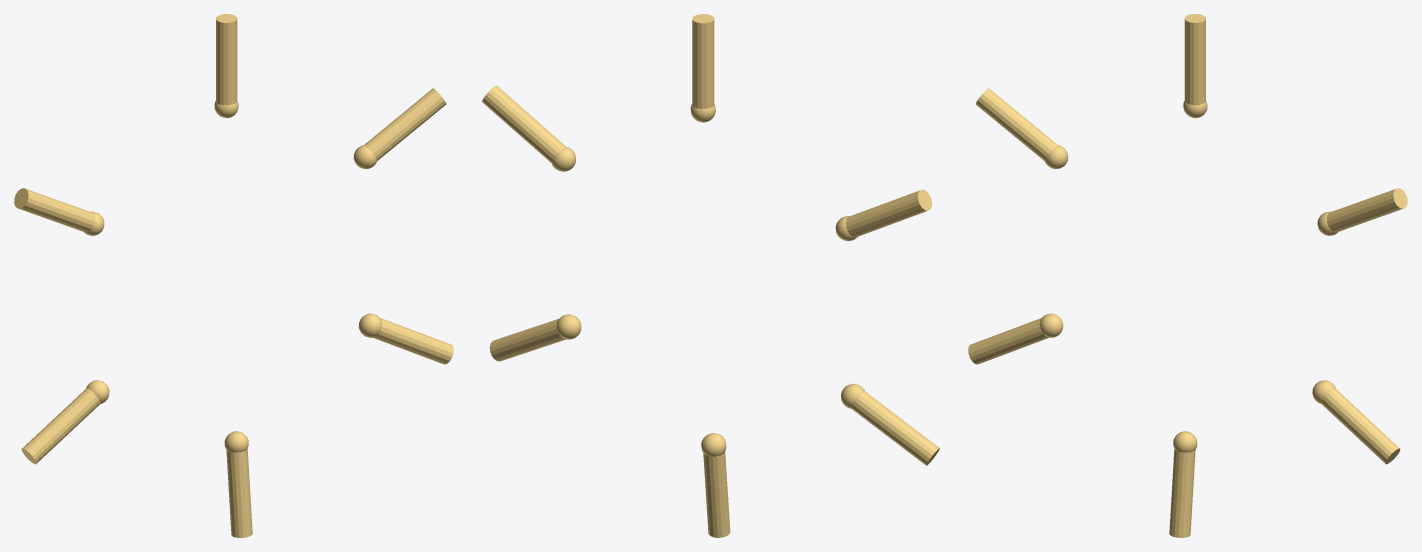
Rendered from SM_Keeper_Nun_Spokes.fbx.
The picture shows the model from 3 angles, left to right: view 1: azimuth 30°, elevation 25°; view 2: azimuth 150°, elevation 25°; view 3: azimuth 330°, elevation 25°; orthographic projection. The views are drawn at different scales.
Parts seen in each view (by area): view 1: SM_Keeper_Nun_Spokes; view 2: SM_Keeper_Nun_Spokes; view 3: SM_Keeper_Nun_Spokes.
Part boxes in pixels (left/top/right/bottom): SM_Keeper_Nun_Spokes: left=14, top=14, right=453, bottom=537; SM_Keeper_Nun_Spokes: left=482, top=14, right=939, bottom=537; SM_Keeper_Nun_Spokes: left=968, top=14, right=1407, bottom=537.
Size of the model in its own units: 4.6 by 5.2 by 0.5027.
